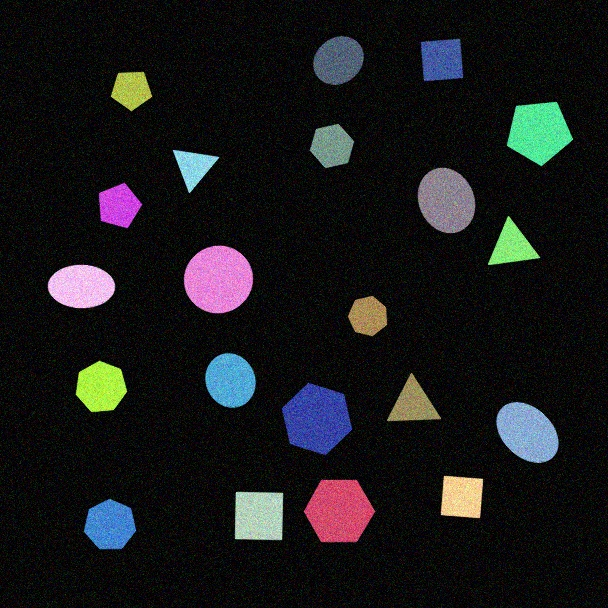Circulo: (183, 245, 254, 314), (205, 352, 256, 409), (312, 35, 365, 86)
Elipse: (496, 401, 559, 464), (417, 167, 476, 234), (47, 264, 116, 309)
Heptagono: (75, 360, 128, 413), (83, 498, 137, 550), (347, 295, 388, 337)
Hexagono: (281, 382, 353, 456), (303, 479, 376, 543), (309, 123, 355, 169)
Pentagono: (506, 101, 574, 167), (98, 182, 143, 229), (110, 71, 153, 112)
Quadrado: (234, 491, 284, 541), (420, 38, 464, 82), (440, 475, 484, 519)
Triangulo: (386, 373, 442, 422), (487, 216, 541, 266), (172, 149, 220, 194)
